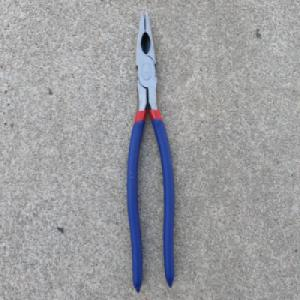Pliers: (125, 8, 176, 294)
